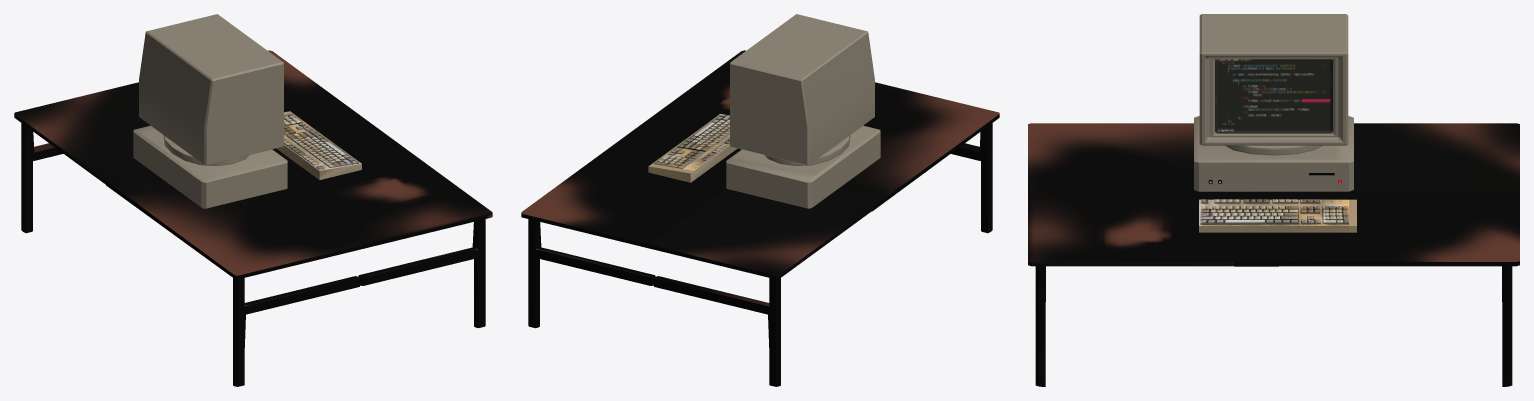
The picture shows the model from 3 angles, left to right: view 1: azimuth 30°, elevation 25°; view 2: azimuth 150°, elevation 25°; view 3: azimuth 270°, elevation 25°; orthographic projection. The views are drawn at different scales.
Parts seen in each view (by area): view 1: Cube, Computer, Cube.001; view 2: Cube, Computer, Cube.001; view 3: Cube, Computer, Cube.001.
Boxes of the visible parts, <box> form: Cube: <box>14,50,492,386</box>; Computer: <box>133,14,287,208</box>; Cube.001: <box>276,111,361,179</box>; Cube: <box>521,50,999,386</box>; Computer: <box>726,14,880,208</box>; Cube.001: <box>648,114,737,182</box>; Cube: <box>1028,123,1519,386</box>; Computer: <box>1194,14,1353,191</box>; Cube.001: <box>1199,199,1356,232</box>.
Bounding box in the file's own units: 4.47 × 3.98 × 6.66.
8 materials, 4 textured.
